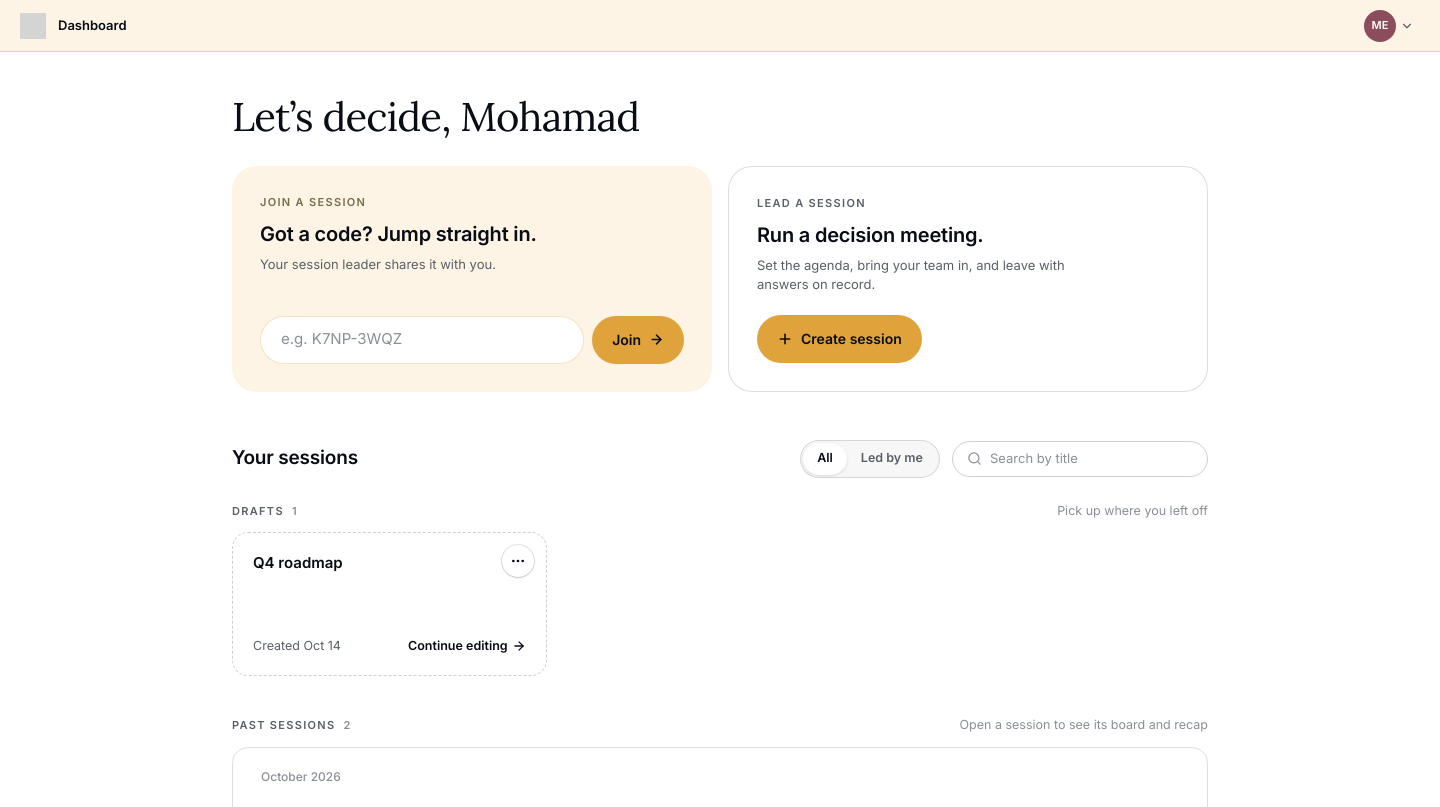
Scenario: dashboard › keeps Settings and Log out behind the avatar
This screenshot has width=1440, height=807.
Check: the menu item "Settings" is not shown
Click the button with aria-label "Account" at (1391, 26), box [1362,8,1420,44]
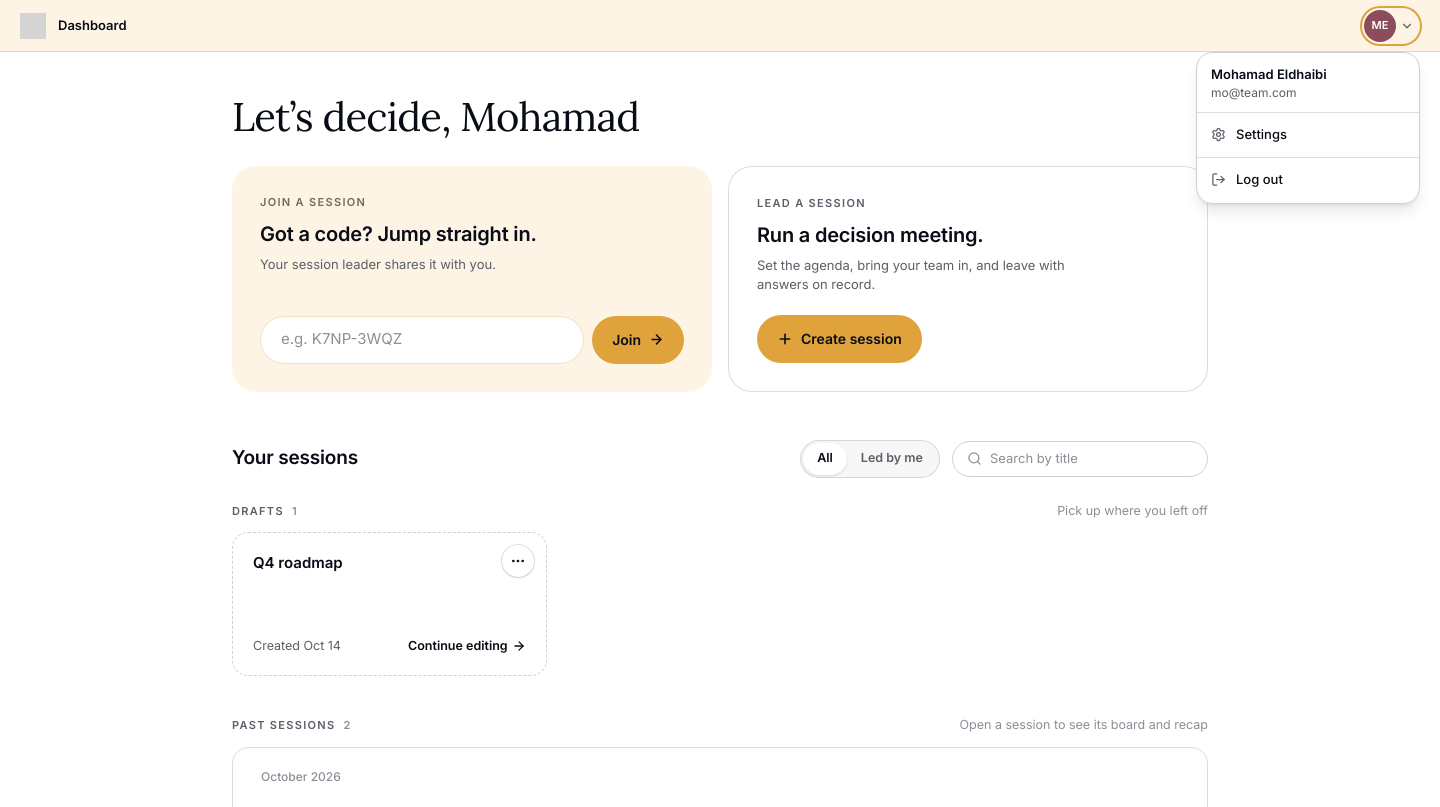
Check: the menu item "Log out" is shown, box [1197,162,1419,197]
Check: the menu named "Account" shows "mo@team.com", box [1211,85,1296,100]
